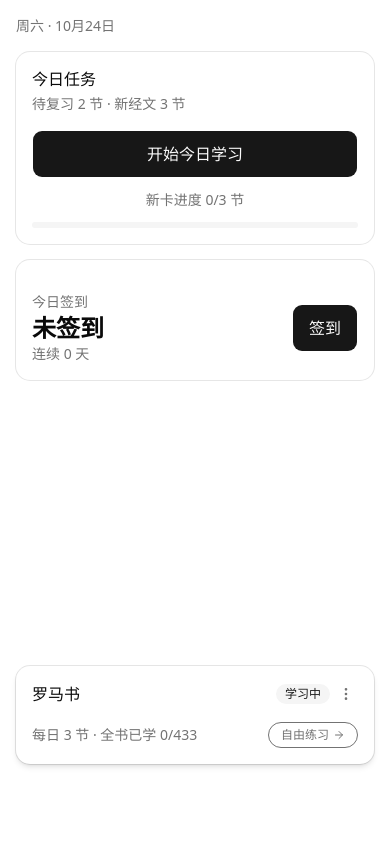
Scenario: PlanClient 签到反馈 › 签到成功后原位切换为每日金句，错误提示消失
The image size is (390, 844).
What coordinates should you click on to do the following:
click the button "签到"
I would click on:
 (325, 328)
Its box is [292,304,358,352].
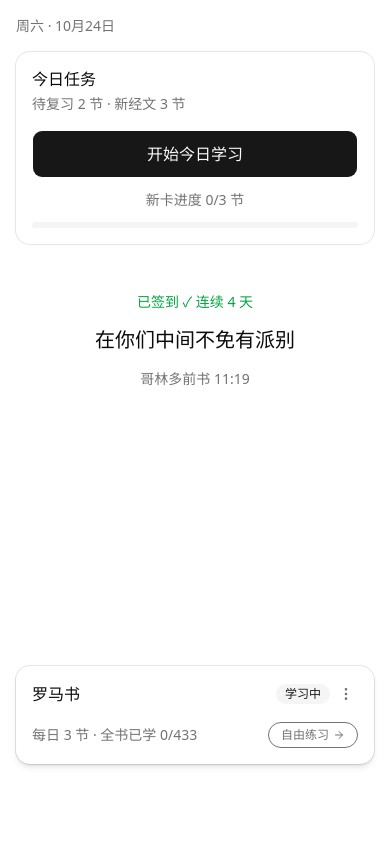
Expected: the text "在你们中间不免有派别" is shown, [93,324,297,356]
